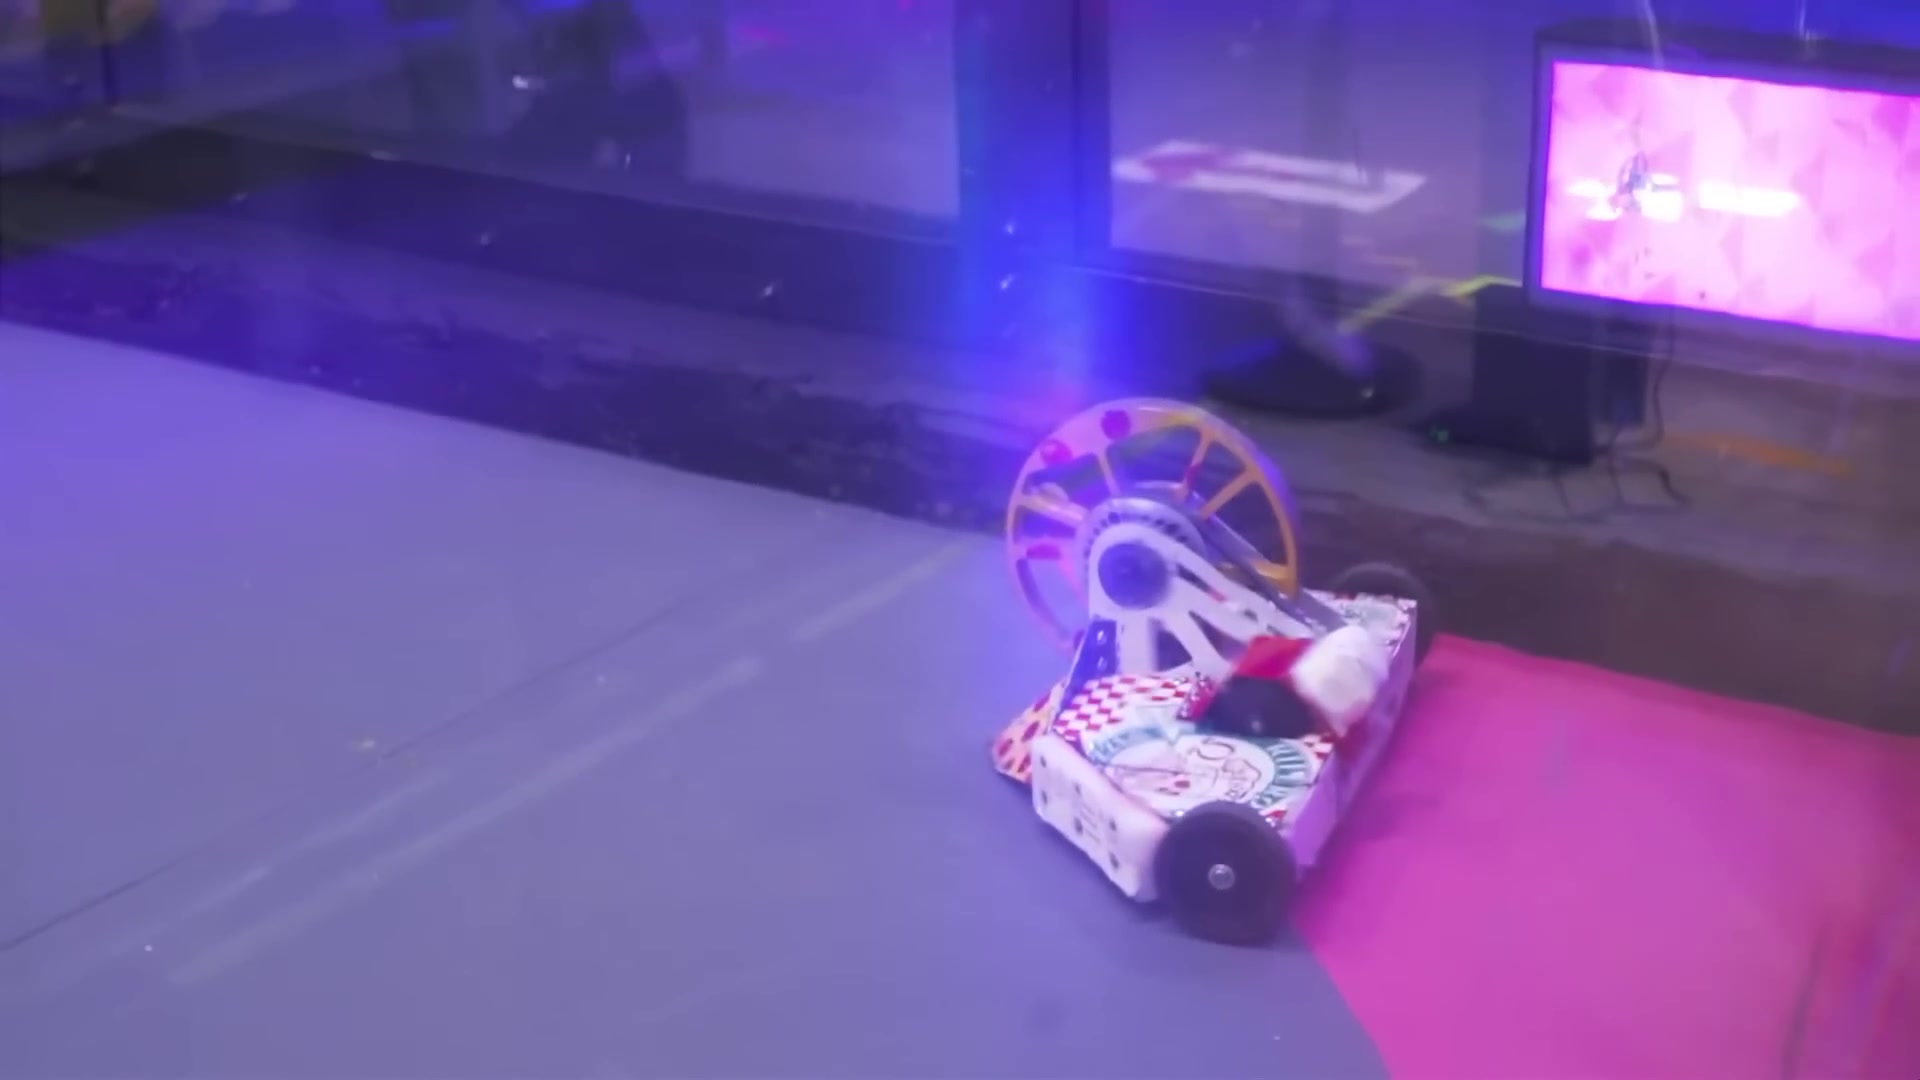combatbot: (989, 400, 1431, 948)
